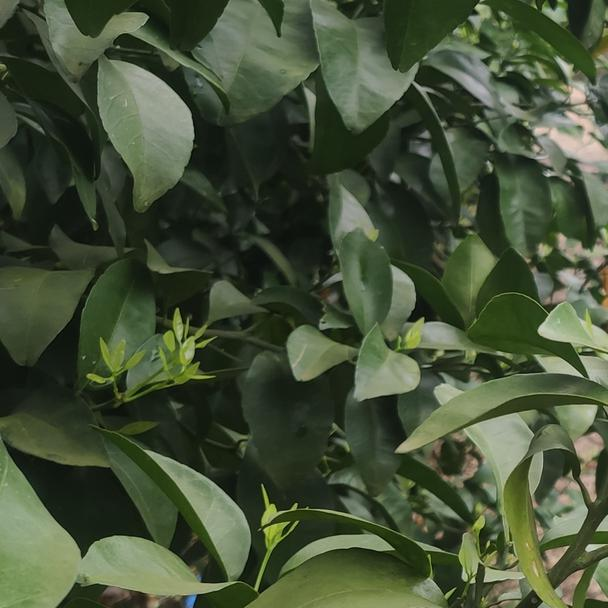shoot: (135, 317, 219, 392), (89, 338, 141, 401), (256, 489, 302, 557)
